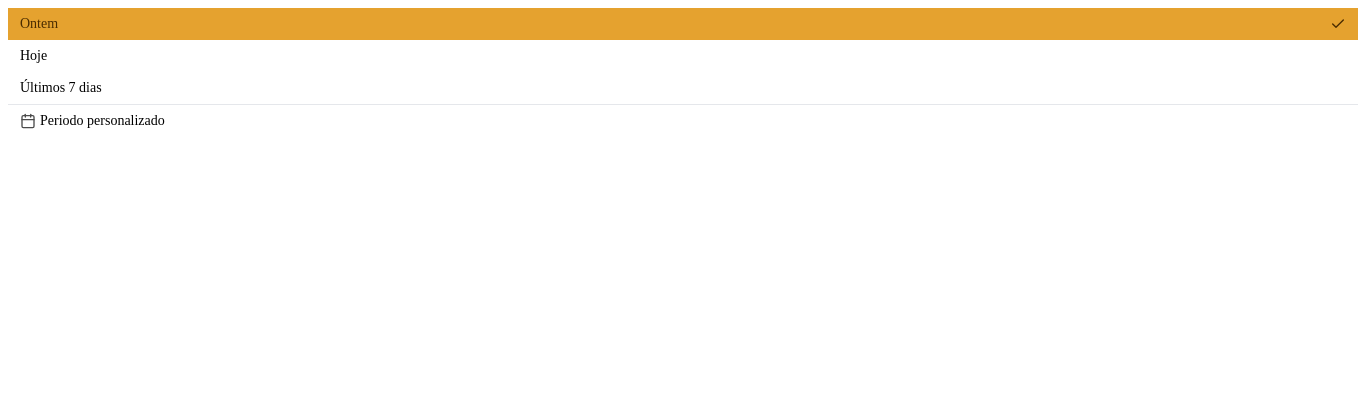
Scenario: DateRangeFilter › Custom Calendar Picker › RF09: exibe calendar picker ao selecionar custom
Click the radio button with class "date-range-filter__custom-trigger" at (683, 120), box [8,104,1358,137]
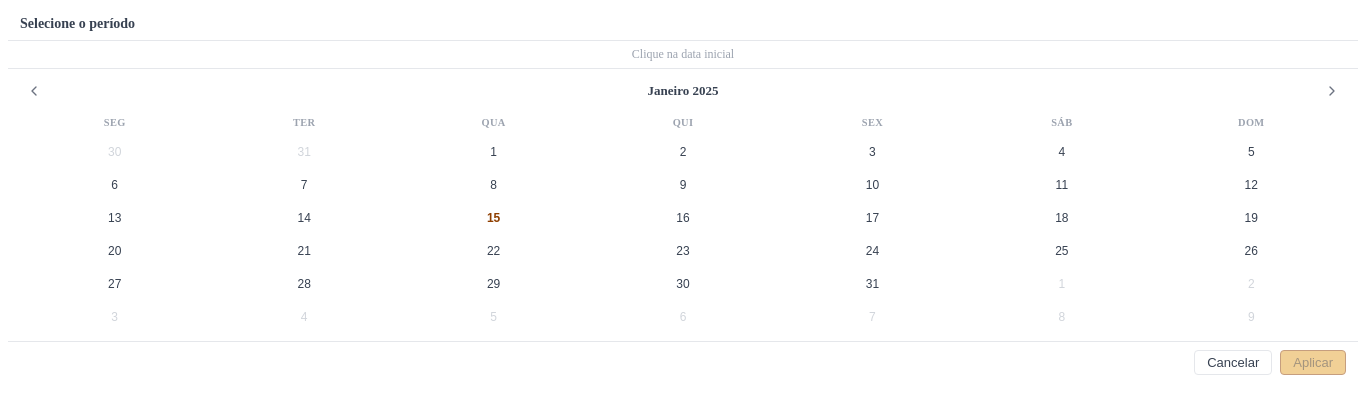
Now the element with class "date-range-filter__custom-picker" is shown
Now the element with class "drf-cal" is shown
